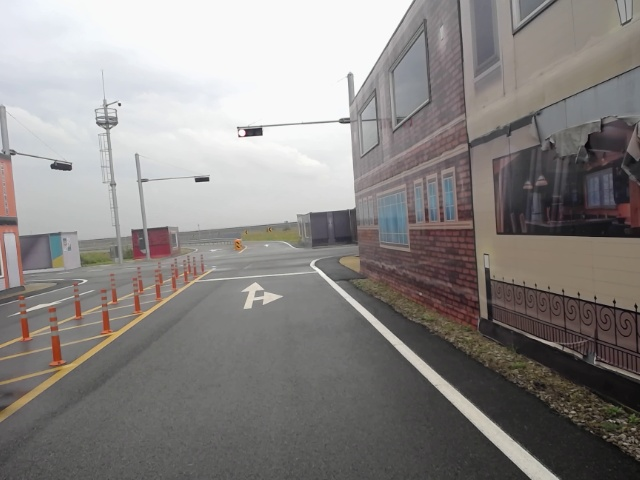red_3: (237, 128, 263, 138)
